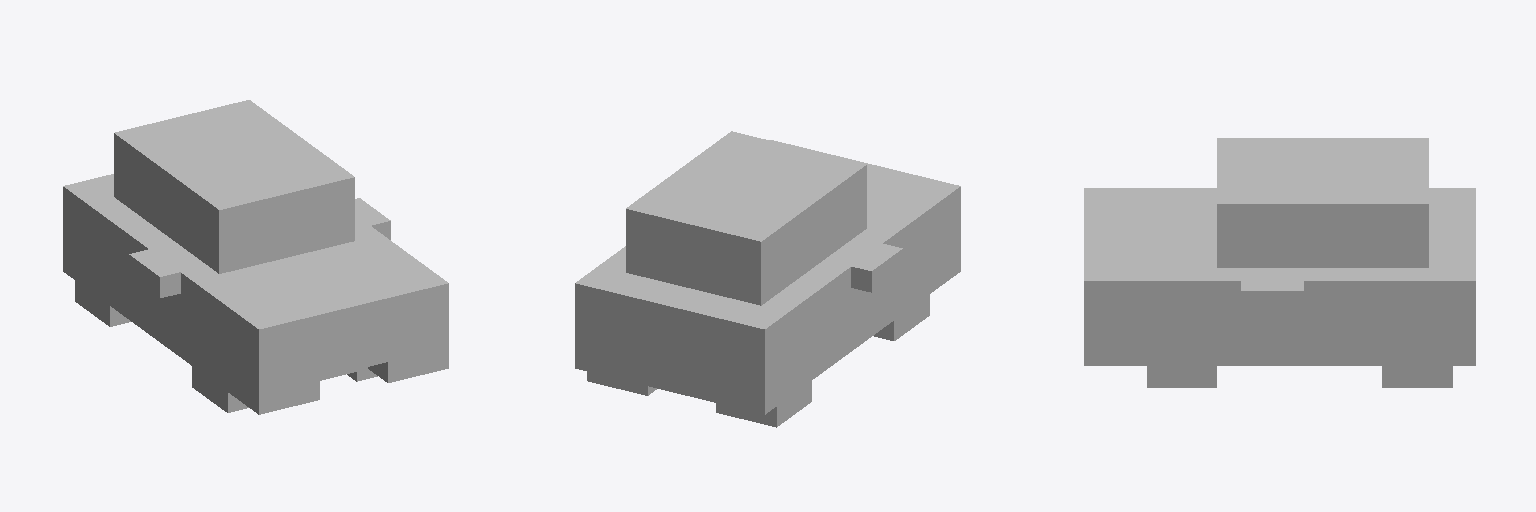
Rendered from car1.obj.
3 renders of one model, left to right at view 1: azimuth 30°, elevation 25°; view 2: azimuth 150°, elevation 25°; view 3: azimuth 270°, elevation 25°, orthographic.
Visible parts, largest first — view 1: object 1; view 2: object 1; view 3: object 1.
Boxes of the visible parts, <box> form: object 1: <box>63,100,448,414</box>; object 1: <box>575,131,960,427</box>; object 1: <box>1084,138,1475,387</box>.
Bounding box in the file's own units: 3.4 × 2.4 × 5.